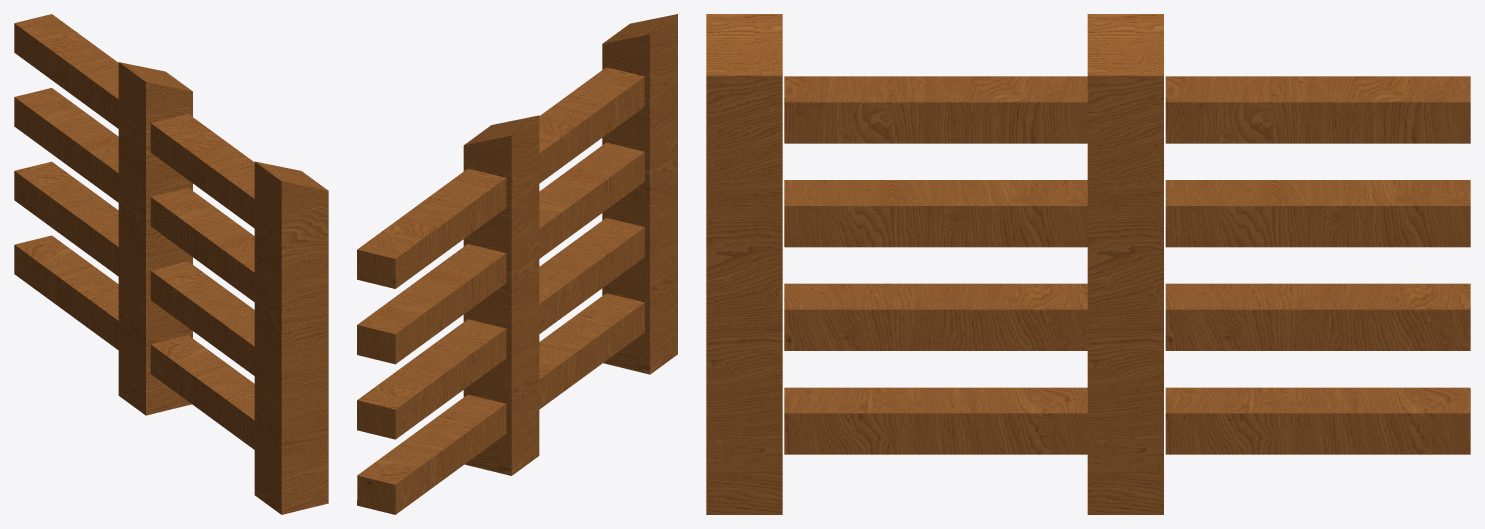
Rendered from woodenfence.fbx.
3 views of the same model, side by side, from view 1: azimuth 30°, elevation 25°; view 2: azimuth 150°, elevation 25°; view 3: azimuth 270°, elevation 25° (orthographic). The views are drawn at different scales.
Parts seen in each view (by area): view 1: Plane.001, Plane.002; view 2: Plane.002, Plane.001; view 3: Plane.002, Plane.001.
Part boxes in pixels (bbox=[...]): Plane.001: bbox=[150, 114, 328, 514]; Plane.002: bbox=[14, 14, 192, 415]; Plane.002: bbox=[357, 115, 539, 514]; Plane.001: bbox=[539, 14, 677, 409]; Plane.002: bbox=[1087, 14, 1470, 514]; Plane.001: bbox=[706, 14, 1087, 514].
Size of the model in its own units: 50 by 339 by 501.
